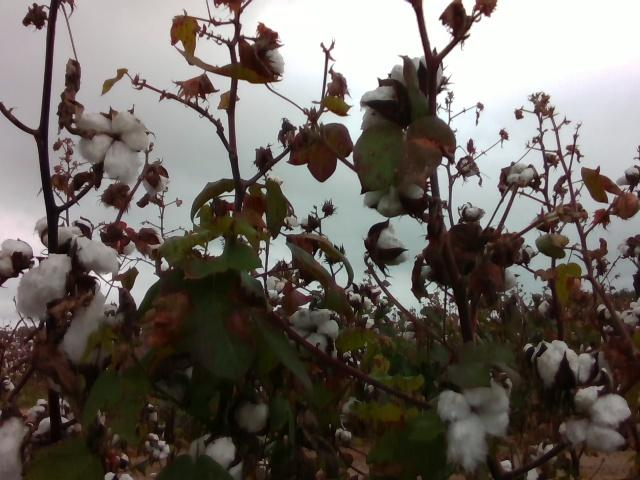cotton_ready: (17, 254, 110, 368), (360, 51, 447, 130), (438, 385, 510, 469), (557, 385, 635, 452), (78, 106, 148, 179), (38, 215, 122, 267), (0, 380, 39, 480), (523, 345, 599, 390), (189, 438, 251, 479), (363, 179, 429, 216), (287, 306, 338, 351), (239, 398, 279, 448), (371, 224, 410, 266), (0, 236, 32, 283), (256, 46, 286, 80)
